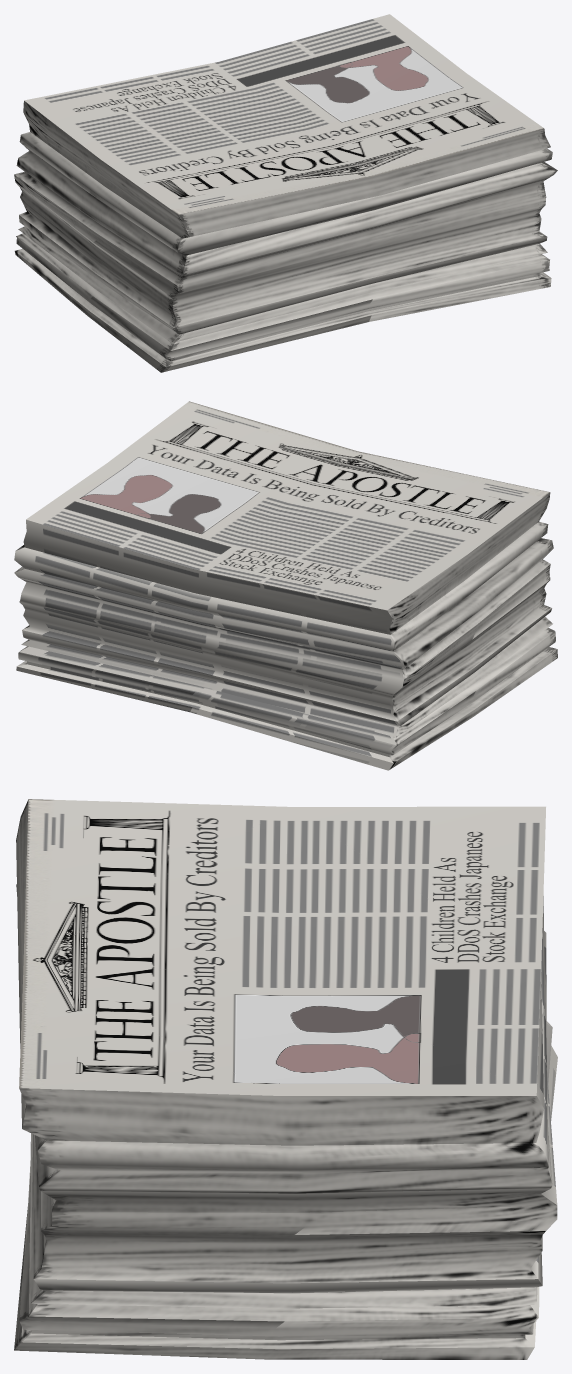
Rendered from NewspaperBundle_large.fbx.
3 views of the same model, one above another, from view 1: azimuth 30°, elevation 25°; view 2: azimuth 150°, elevation 25°; view 3: azimuth 270°, elevation 25° (orthographic). The views are drawn at different scales.
Visible parts, largest first — view 1: NewspaperBundle_large; view 2: NewspaperBundle_large; view 3: NewspaperBundle_large.
Boxes of the visible parts, x1=… form: NewspaperBundle_large: x1=14, y1=14, x2=557, y2=372; NewspaperBundle_large: x1=14, y1=401, x2=557, y2=770; NewspaperBundle_large: x1=14, y1=799, x2=557, y2=1359.
Bounding box in the file's own units: 0.4056 × 0.1583 × 0.2964.
